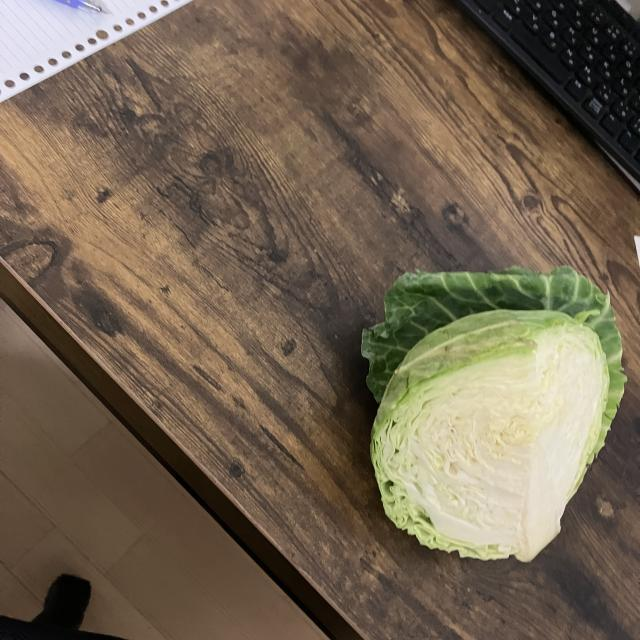cabbage: (358, 265, 630, 566)
